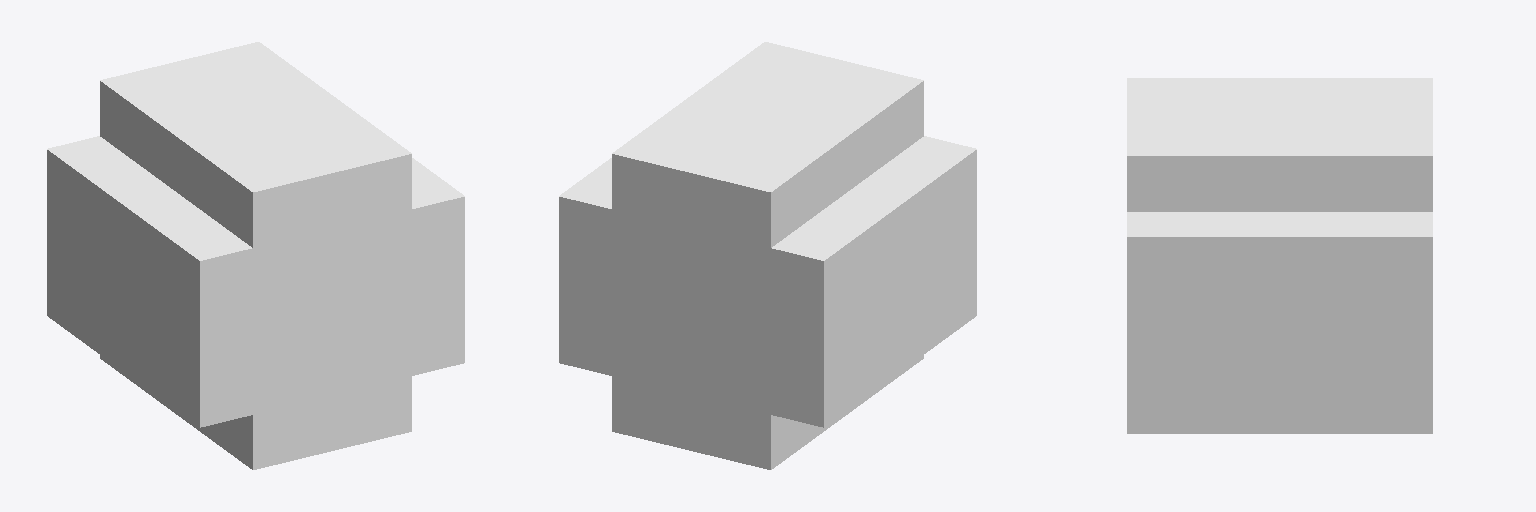
File: HayBale.vox.obj
3 views of the same model, side by side, from view 1: azimuth 30°, elevation 25°; view 2: azimuth 150°, elevation 25°; view 3: azimuth 270°, elevation 25° (orthographic).
Parts seen in each view (by area): view 1: object 1; view 2: object 1; view 3: object 1.
Part boxes in pixels (bbox=[...]): object 1: bbox=[47, 42, 464, 469]; object 1: bbox=[559, 42, 976, 469]; object 1: bbox=[1127, 78, 1432, 433].
Bounding box in the file's own units: 0.5 × 0.5 × 0.5.